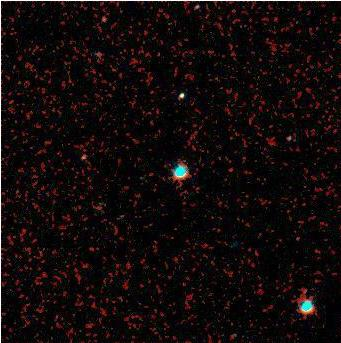star: (280, 223, 310, 253)
